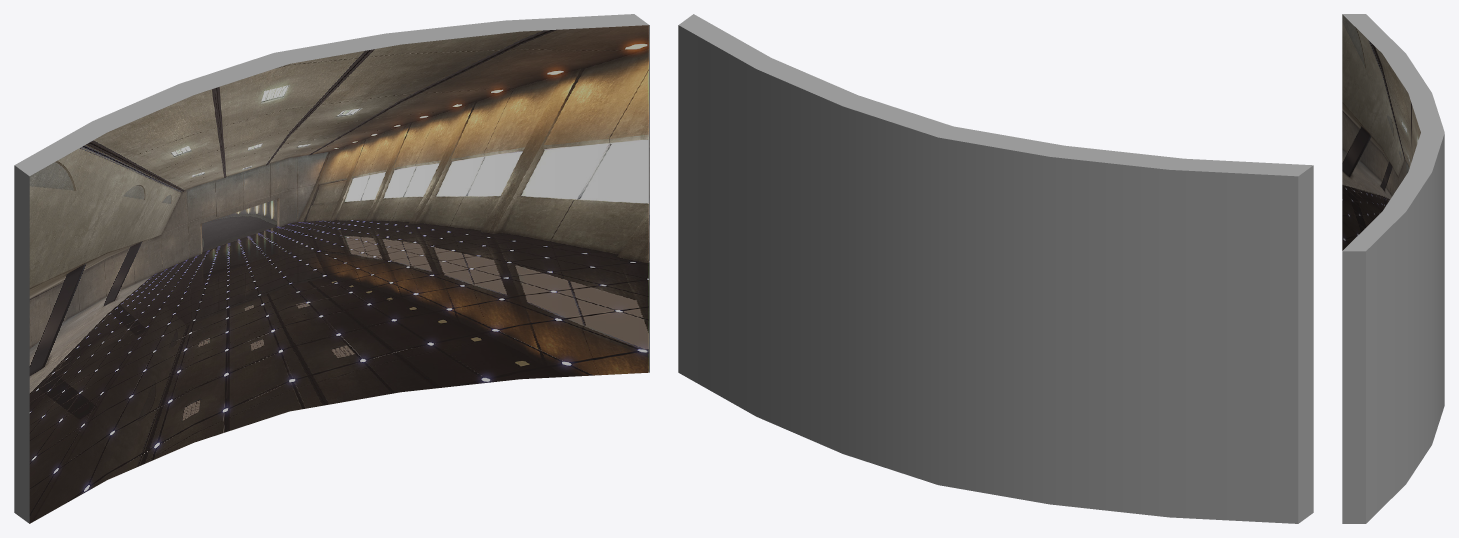
The model's file is wall.fbx.
The picture shows the model from 3 angles, left to right: view 1: azimuth 30°, elevation 25°; view 2: azimuth 150°, elevation 25°; view 3: azimuth 270°, elevation 25°; orthographic projection. The views are drawn at different scales.
Parts seen in each view (by area): view 1: pCube2; view 2: pCube2; view 3: pCube2.
Part boxes in pixels (left/top/right/bottom): pCube2: left=14, top=14, right=649, bottom=523; pCube2: left=678, top=14, right=1313, bottom=523; pCube2: left=1342, top=14, right=1444, bottom=523.
Bounding box in the file's own units: 24.96 × 13.38 × 4.56.
2 materials, 1 textured.
